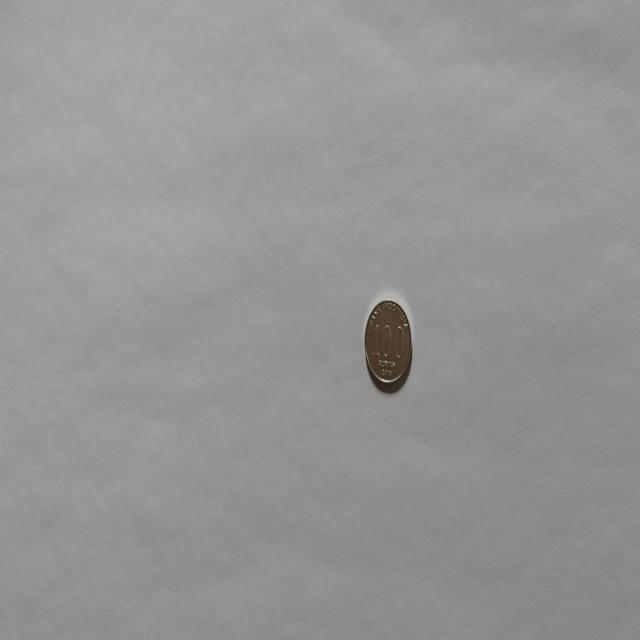seratus rupiah: (363, 297, 413, 391)
